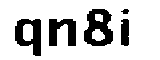8: (83, 8, 114, 52)
i: (118, 8, 136, 50)
n: (47, 16, 78, 51)
q: (12, 17, 43, 59)
